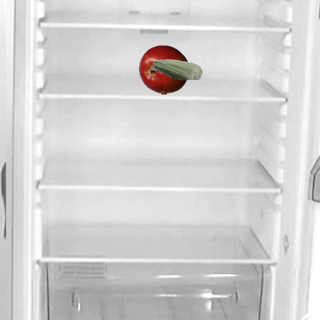Apple Braeburn: (138, 44, 188, 94)
Corn Husk: (152, 44, 202, 94)
